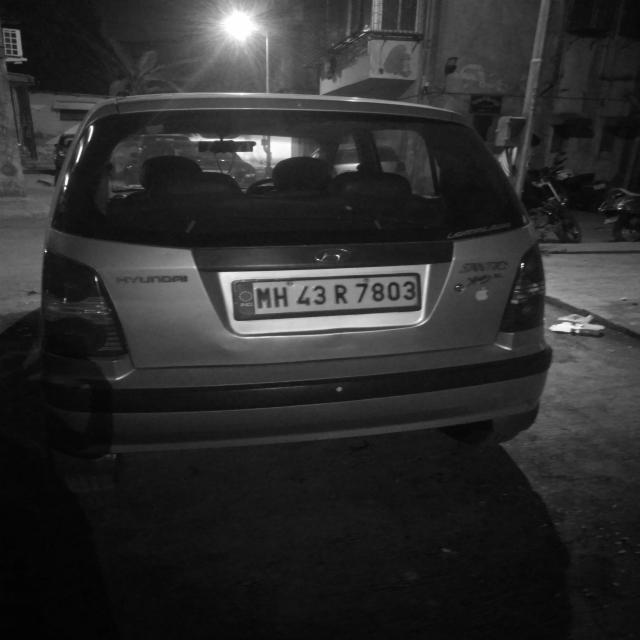car: (33, 96, 563, 468)
license-plate: (231, 271, 426, 318)
